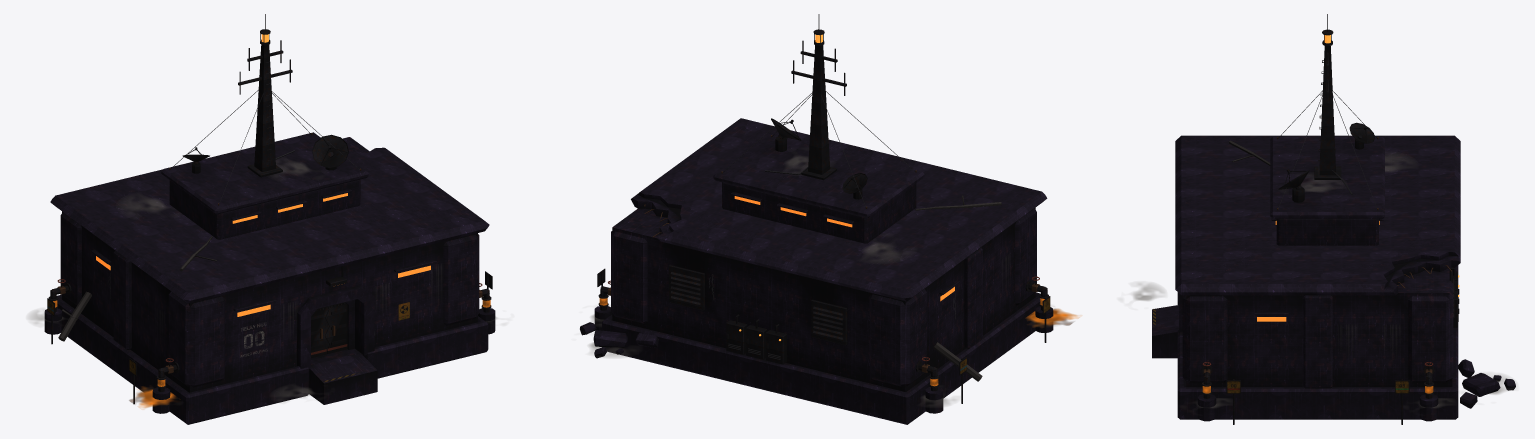
The model's file is relay_hub.glb.
3 renders of one model, left to right at view 1: azimuth 30°, elevation 25°; view 2: azimuth 150°, elevation 25°; view 3: azimuth 270°, elevation 25°, orthographic. The views are drawn at different scales.
Parts seen in each view (by area): view 1: hub_shell, hub_decals, door_right, door_left, hub_liquid; view 2: hub_shell, hub_decals, hub_liquid; view 3: hub_shell, hub_decals.
Boxes of the visible parts, left/top/right/bottom form: hub_shell: left=44, top=14, right=495, bottom=424; hub_decals: left=28, top=159, right=497, bottom=403; door_right: left=325, top=302, right=347, bottom=353; door_left: left=311, top=306, right=328, bottom=357; hub_liquid: left=53, top=300, right=490, bottom=409; hub_shell: left=580, top=14, right=1053, bottom=424; hub_decals: left=589, top=155, right=1073, bottom=406; hub_liquid: left=599, top=298, right=1081, bottom=386; hub_shell: left=1152, top=14, right=1515, bottom=424; hub_decals: left=1132, top=153, right=1512, bottom=407.
Size of what is drawn, in the model's own units: 18.4 by 14.95 by 16.6.
Materials: 39 (29 with a texture image).
